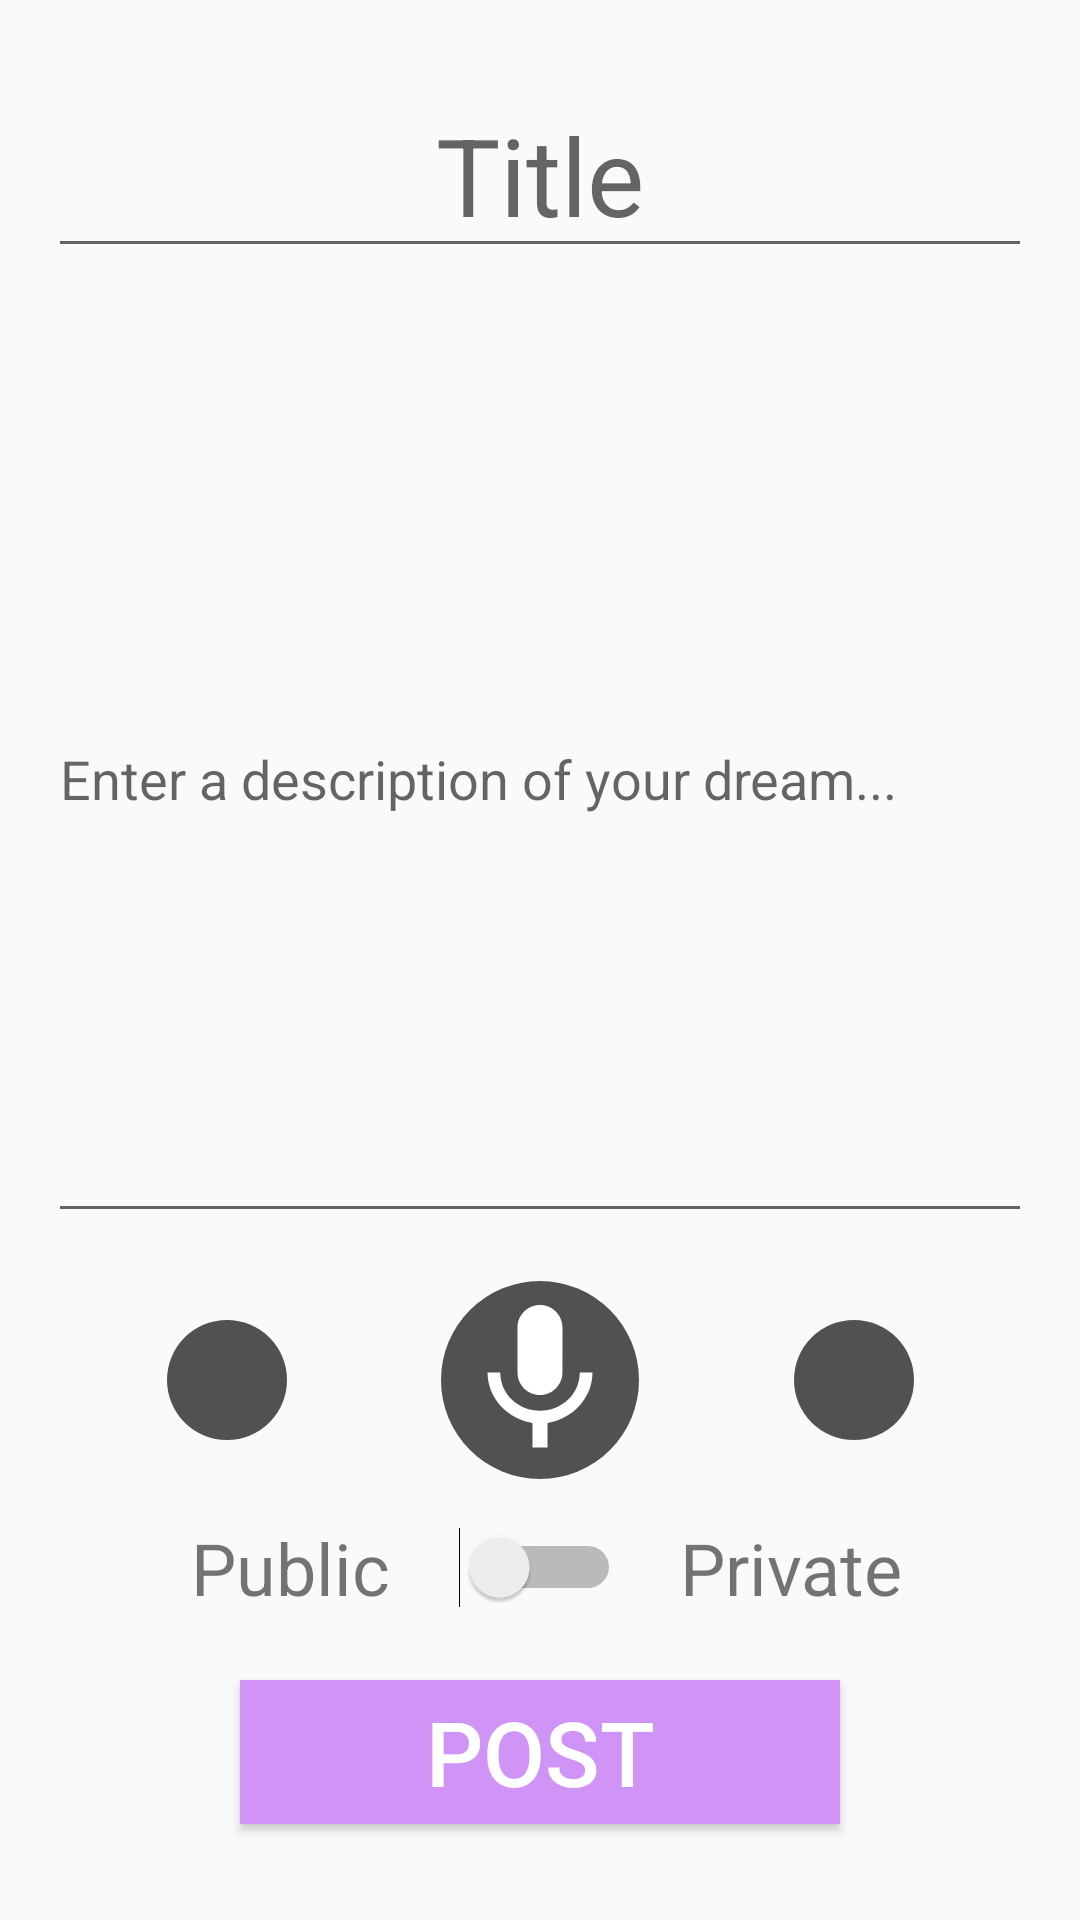

Named icons in this screenshot (1080px×1920px) and their centers, [x,y]:
mic: [540,1380]
